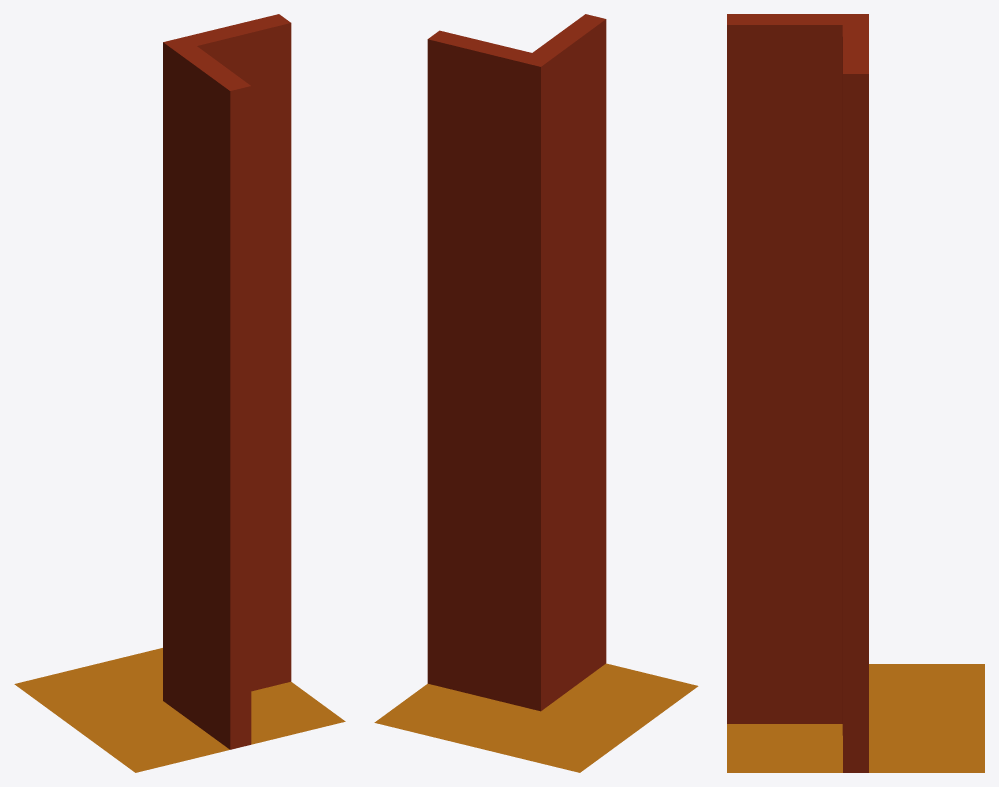
Rendered from Jap_HardCorner.fbx.
3 renders of one model, left to right at view 1: azimuth 30°, elevation 25°; view 2: azimuth 150°, elevation 25°; view 3: azimuth 270°, elevation 25°, orthographic. The views are drawn at different scales.
Visible parts, largest first — view 1: cornerdoor002, Plane021; view 2: cornerdoor002, Plane021; view 3: cornerdoor002, Plane021.
Boxes of the visible parts, box(x1,y1,x2,y2) form: cornerdoor002: box(163, 14, 291, 749); Plane021: box(14, 648, 345, 772); cornerdoor002: box(427, 14, 606, 711); Plane021: box(374, 663, 698, 772); cornerdoor002: box(727, 14, 868, 772); Plane021: box(727, 664, 984, 772).
Size of the model in its own units: 78.74 by 236 by 78.74.
